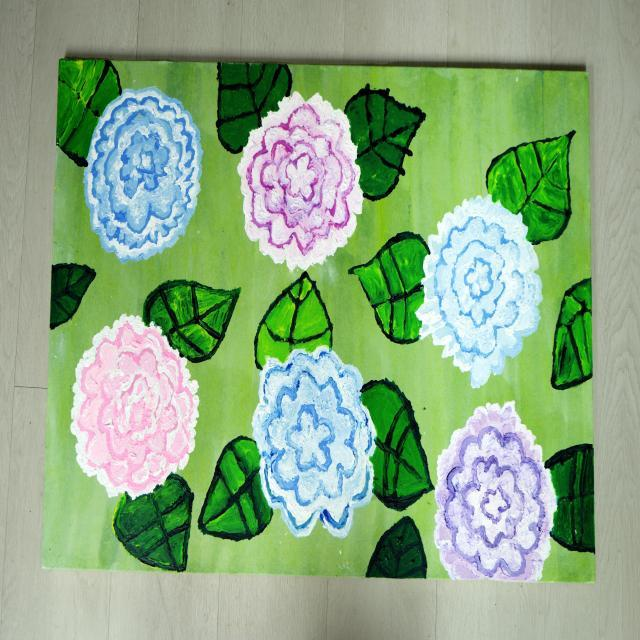painting: (43, 61, 594, 581)
